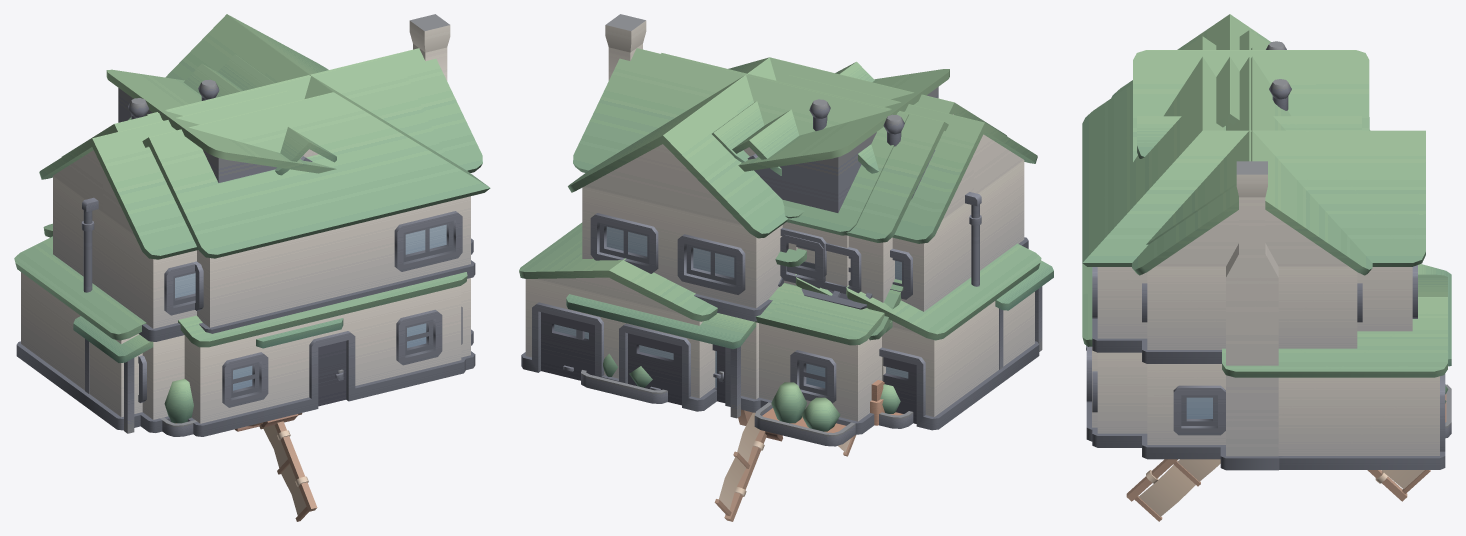
File: town.glb
3 renders of one model, left to right at view 1: azimuth 30°, elevation 25°; view 2: azimuth 150°, elevation 25°; view 3: azimuth 270°, elevation 25°, orthographic. The views are drawn at different scales.
Parts seen in each view (by area): view 1: building-type-f, building-type-t, building-type-n, building-type-d, building-type-k, windmill; view 2: building-type-n, building-type-f, building-type-d, building-type-t, building-type-k, windmill, building-type-h, building-type-c; view 3: building-type-d, building-type-f, building-type-n, building-type-k, building-type-t, windmill.
Boxes of the visible parts, x1,y1,x2,y2 form: building-type-f: [128, 14, 490, 436]; building-type-t: [43, 55, 467, 436]; building-type-n: [39, 90, 343, 433]; building-type-d: [14, 14, 482, 430]; building-type-k: [106, 69, 336, 182]; windmill: [259, 421, 317, 521]; building-type-n: [519, 75, 1053, 428]; building-type-f: [566, 57, 1006, 418]; building-type-d: [573, 14, 1041, 430]; building-type-t: [581, 53, 948, 446]; building-type-k: [738, 69, 949, 278]; windmill: [714, 412, 856, 521]; building-type-h: [778, 277, 903, 340]; building-type-c: [782, 206, 885, 380]; building-type-d: [1132, 47, 1372, 470]; building-type-f: [1082, 36, 1451, 447]; building-type-n: [1111, 14, 1447, 469]; building-type-k: [1133, 50, 1369, 161]; building-type-t: [1082, 30, 1451, 441]; windmill: [1126, 459, 1430, 521].
Bounding box in the file's own units: 10.71 × 11.16 × 8.44.
Materials: 3 (2 with a texture image).
